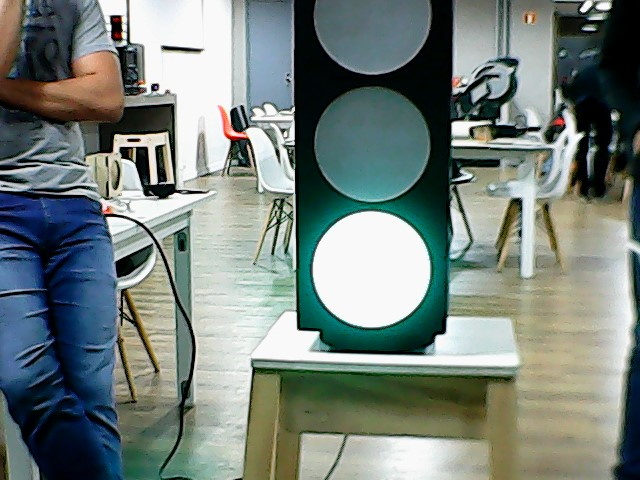verde: (286, 1, 451, 341)
